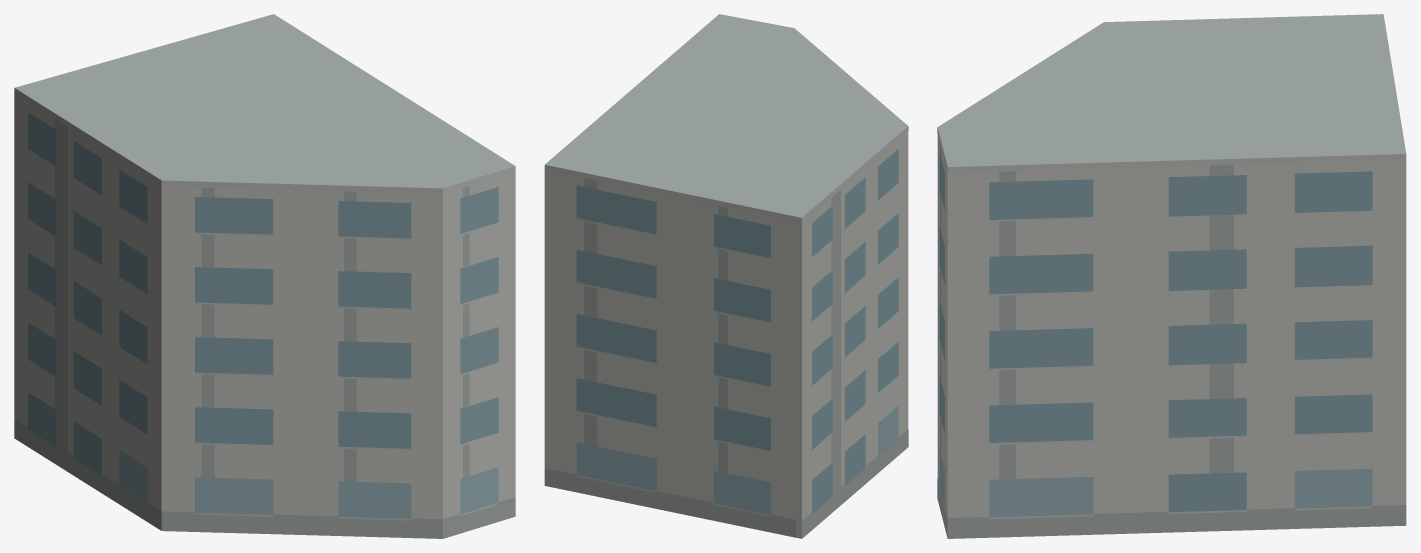
Rendered from survey-upis-32606348.glb.
The picture shows the model from 3 angles, left to right: view 1: azimuth 30°, elevation 25°; view 2: azimuth 150°, elevation 25°; view 3: azimuth 270°, elevation 25°; orthographic projection. The views are drawn at different scales.
Visible parts, largest first — view 1: survey-upis-32606348.tmp; view 2: survey-upis-32606348.tmp; view 3: survey-upis-32606348.tmp.
Boxes of the visible parts, left/top/right/bottom form: survey-upis-32606348.tmp: left=14, top=14, right=515, bottom=538; survey-upis-32606348.tmp: left=544, top=14, right=908, bottom=538; survey-upis-32606348.tmp: left=937, top=14, right=1406, bottom=538.
Size of the model in its own units: 12.86 by 14.55 by 16.64.
